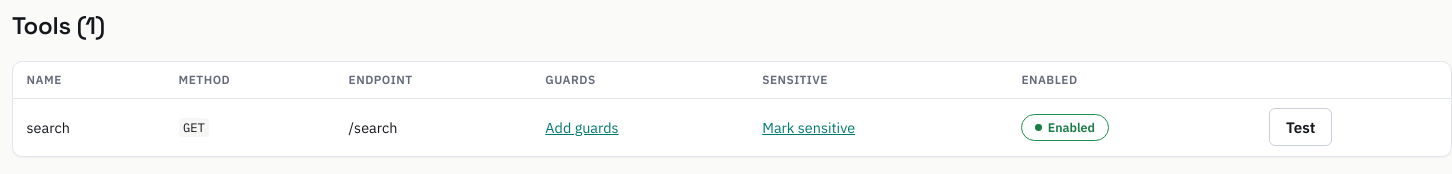
Test: ServerDetailToolsTable › optimistically marks a tool sensitive immediately on click, and keeps it set once the save succeeds
The image size is (1452, 174).
Click the button "Mark sensitive" at (809,127), box 762,118 -> 855,137
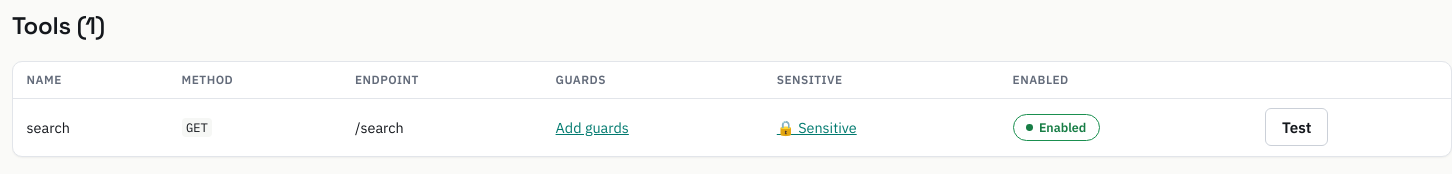
Expected: the button "🔒 Sensitive" is shown, 777,118 -> 857,137
